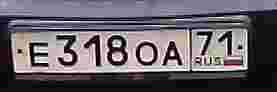license-plateSW: (8, 24, 251, 75)
